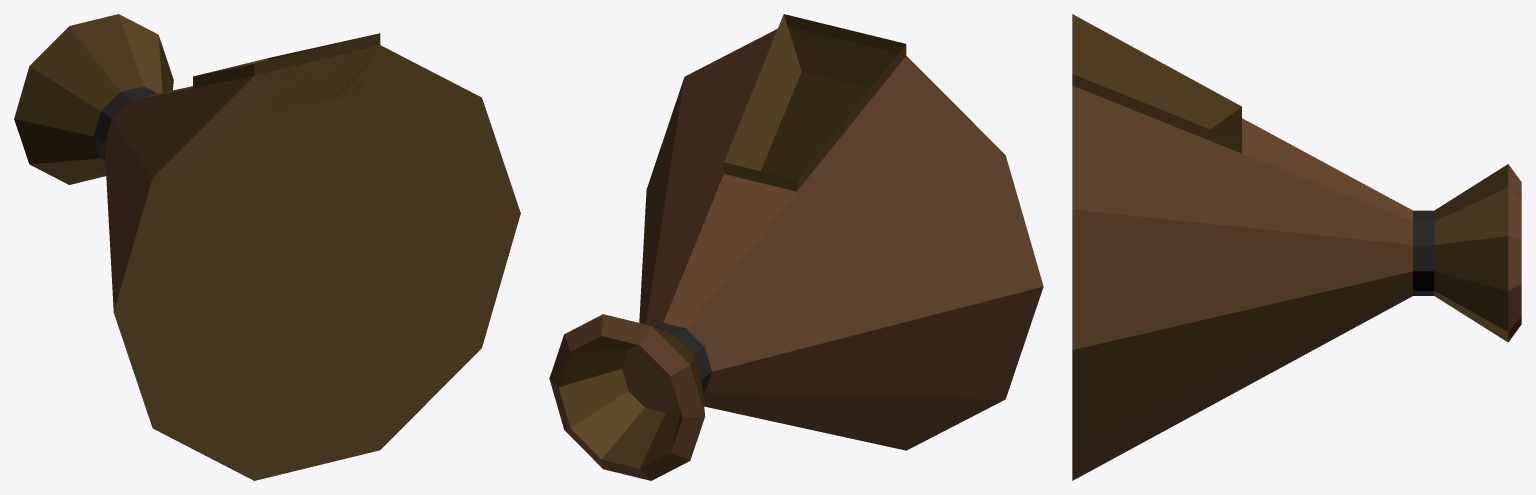
Rendered from desert_house_1.fbx.
The picture shows the model from 3 angles, left to right: view 1: azimuth 30°, elevation 25°; view 2: azimuth 150°, elevation 25°; view 3: azimuth 270°, elevation 25°; orthographic projection. The views are drawn at different scales.
Visible parts, largest first — view 1: desert_house_1; view 2: desert_house_1; view 3: desert_house_1.
Part boxes in pixels (box(x1,y1,x2,y2)): desert_house_1: box(14, 14, 520, 480); desert_house_1: box(549, 14, 1043, 480); desert_house_1: box(1072, 14, 1521, 480).
Size of the model in its own units: 102 by 100 by 100.
